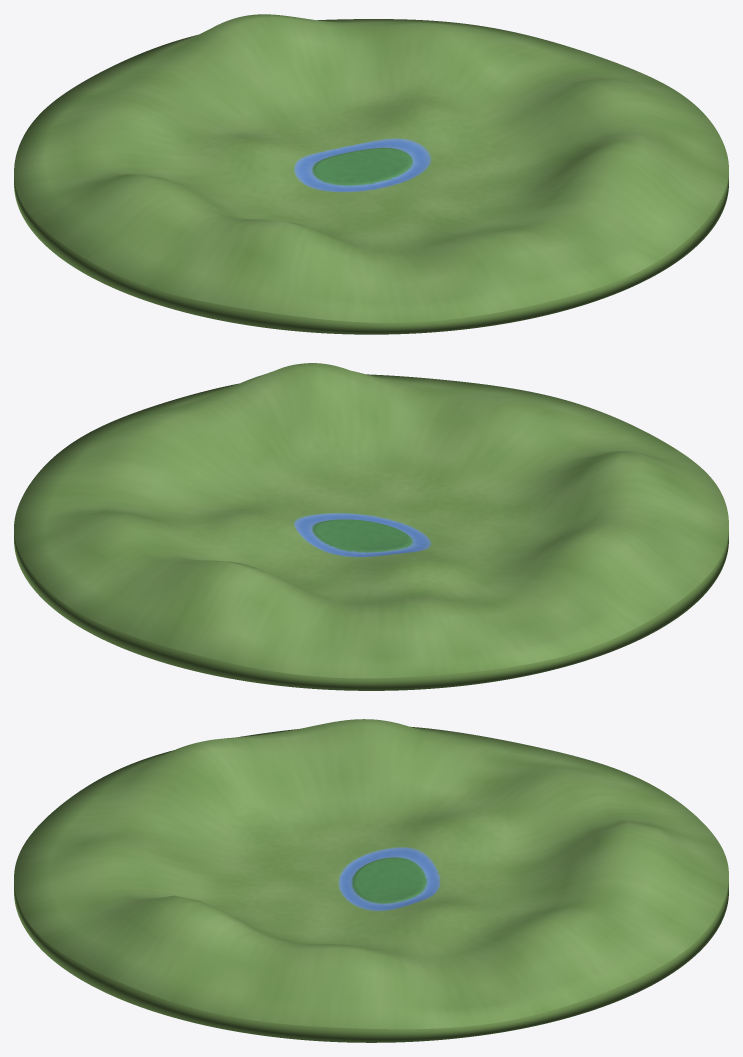
File: W3_Ground.fbx
The picture shows the model from 3 angles, top to bottom: view 1: azimuth 30°, elevation 25°; view 2: azimuth 150°, elevation 25°; view 3: azimuth 270°, elevation 25°; orthographic projection.
Visible parts, largest first — view 1: W3_Ground; view 2: W3_Ground; view 3: W3_Ground.
Boxes of the visible parts, bbox=[...] form: W3_Ground: bbox=[14, 14, 728, 334]; W3_Ground: bbox=[14, 363, 728, 690]; W3_Ground: bbox=[14, 719, 728, 1042].
Size of the model in its own units: 22 by 2.28 by 22.
